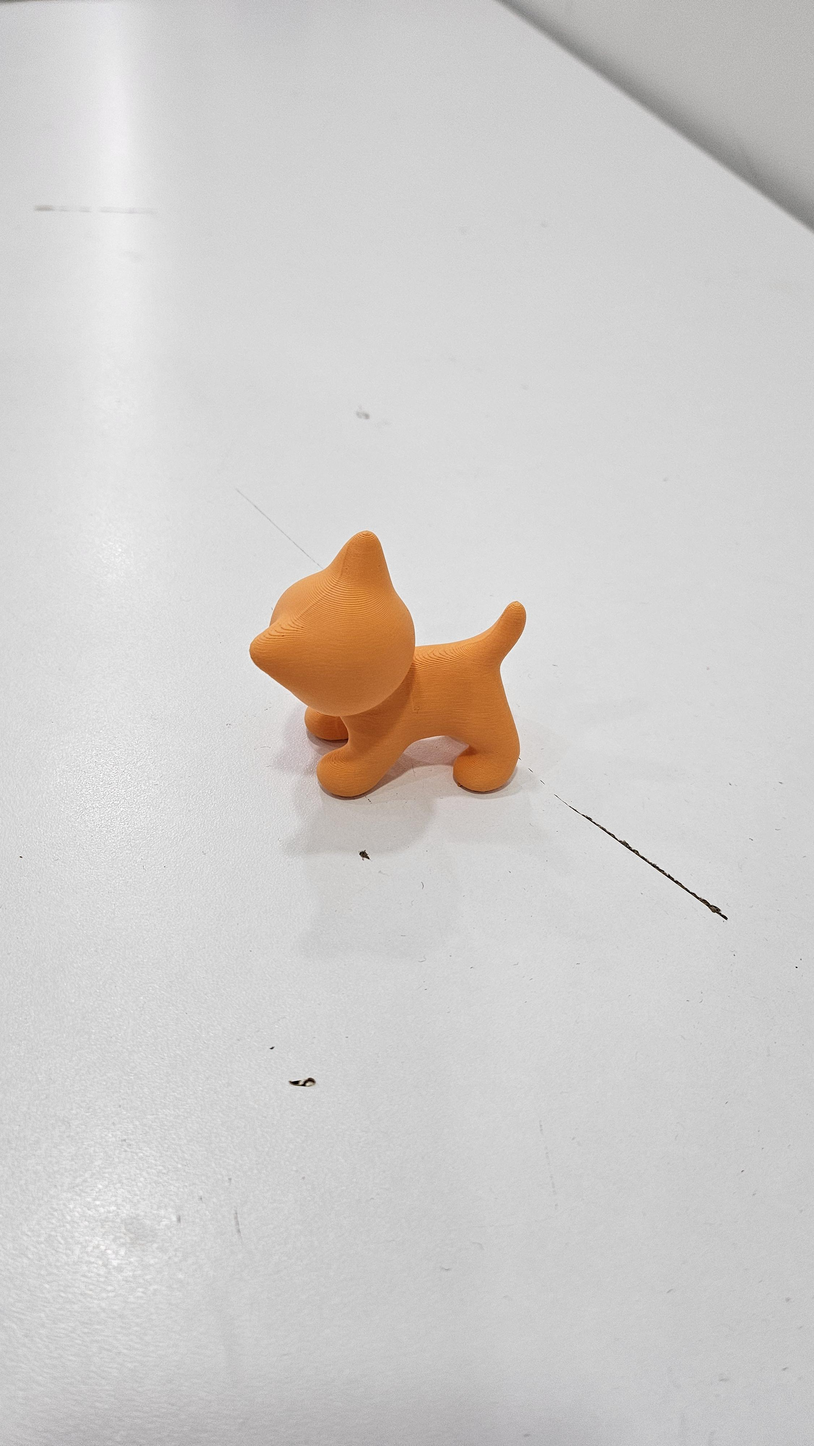cat: (244, 524, 530, 803)
